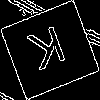K: (25, 25, 72, 80)
